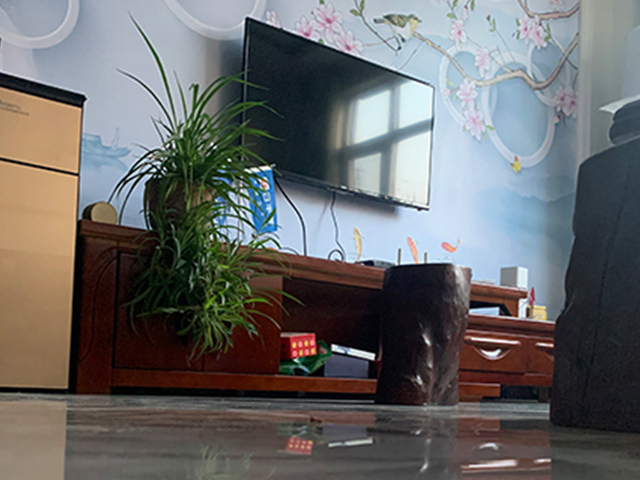cabinet: (74, 219, 553, 403)
stool: (374, 264, 474, 408)
